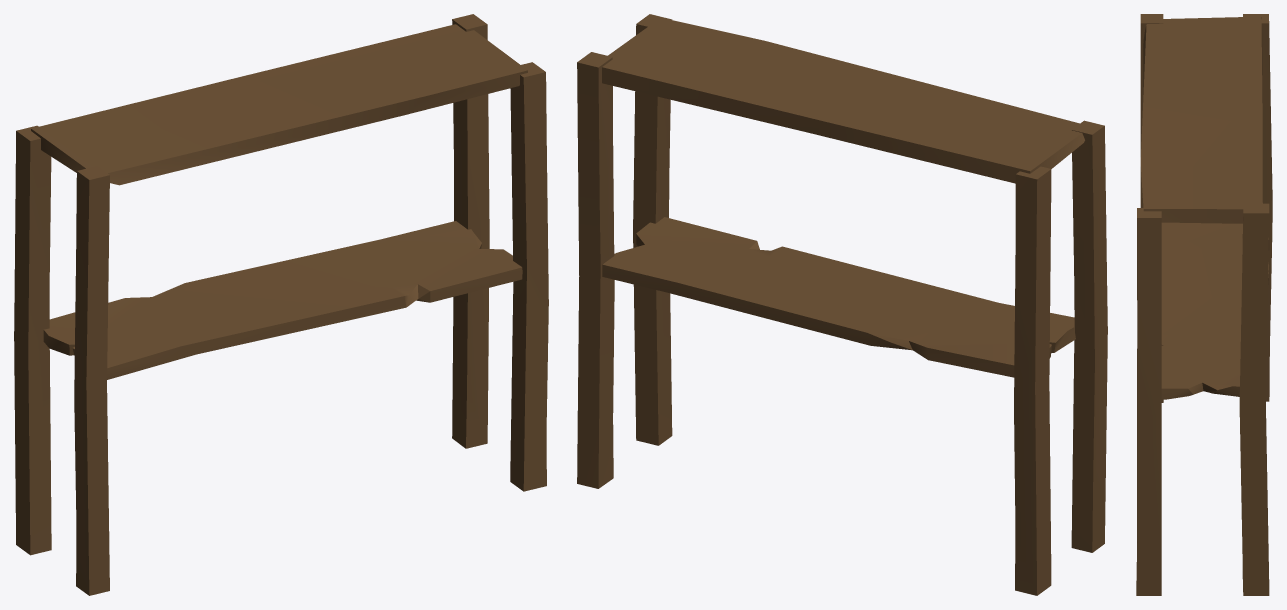
The model's file is Mesh_Props_Shelving_StandingFix_01.obj.
3 renders of one model, left to right at view 1: azimuth 30°, elevation 25°; view 2: azimuth 150°, elevation 25°; view 3: azimuth 270°, elevation 25°, orthographic. The views are drawn at different scales.
Visible parts, largest first — view 1: Mesh_Props_Shelving_StandingFix_01_Mat_SwatchOverlay_Farm_01_Woo; view 2: Mesh_Props_Shelving_StandingFix_01_Mat_SwatchOverlay_Farm_01_Woo; view 3: Mesh_Props_Shelving_StandingFix_01_Mat_SwatchOverlay_Farm_01_Woo.
Part boxes in pixels (x1=…): Mesh_Props_Shelving_StandingFix_01_Mat_SwatchOverlay_Farm_01_Woo: x1=14, y1=14, x2=548, y2=595; Mesh_Props_Shelving_StandingFix_01_Mat_SwatchOverlay_Farm_01_Woo: x1=577, y1=14, x2=1107, y2=595; Mesh_Props_Shelving_StandingFix_01_Mat_SwatchOverlay_Farm_01_Woo: x1=1136, y1=14, x2=1272, y2=595.
Size of the model in its own units: 1.12 by 0.9721 by 0.3141.
1 material, 1 textured.
